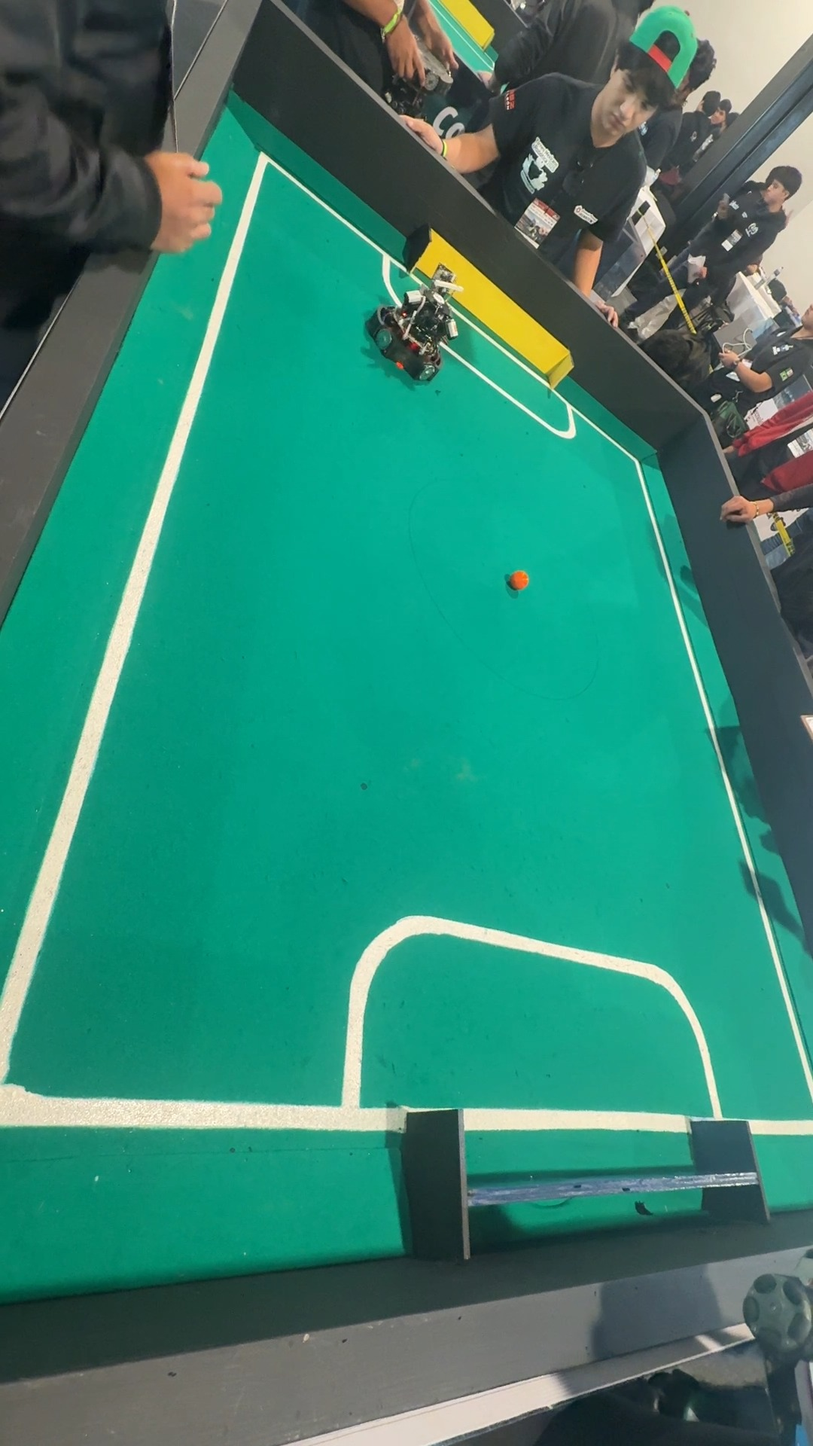Robot: (359, 245, 466, 397)
pelota: (508, 569, 528, 592)
